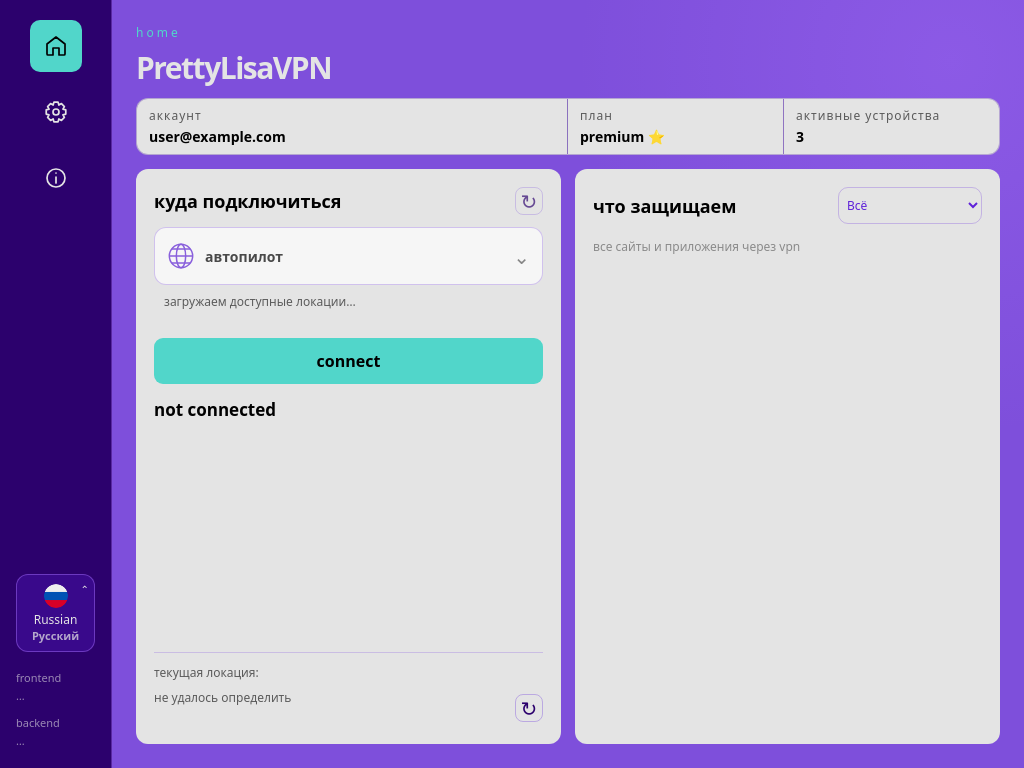
it: uses icon navigation in Home, Settings, About order and keeps Settings active for devices
Expected: the link named "главная" is empty, [30,20,82,72]
Expected: the 1st icon is shown, [44,34,68,58]
Click the link named "настройки": click(56, 112) [44,100,68,124]
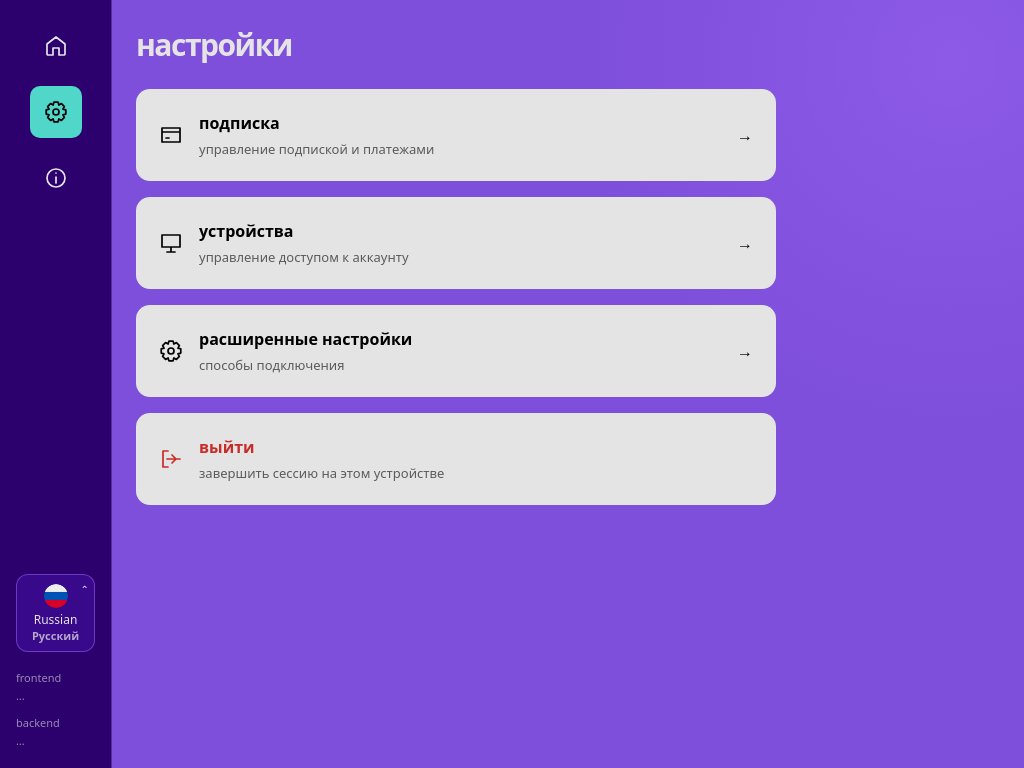
Click the link "устройства Управление доступом к аккаунту →": click(246, 231) [136,197,776,289]
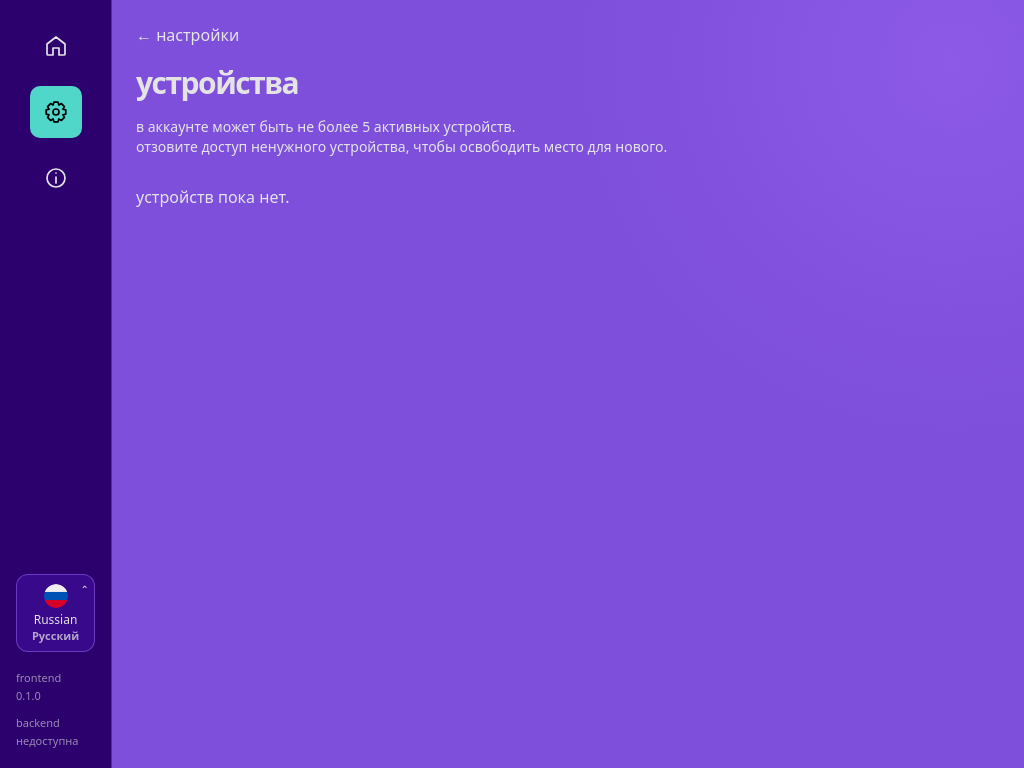
Now the heading "устройства" is shown, box [136,62,298,103]
Click the link "← настройки": click(188, 35) [136,24,239,46]
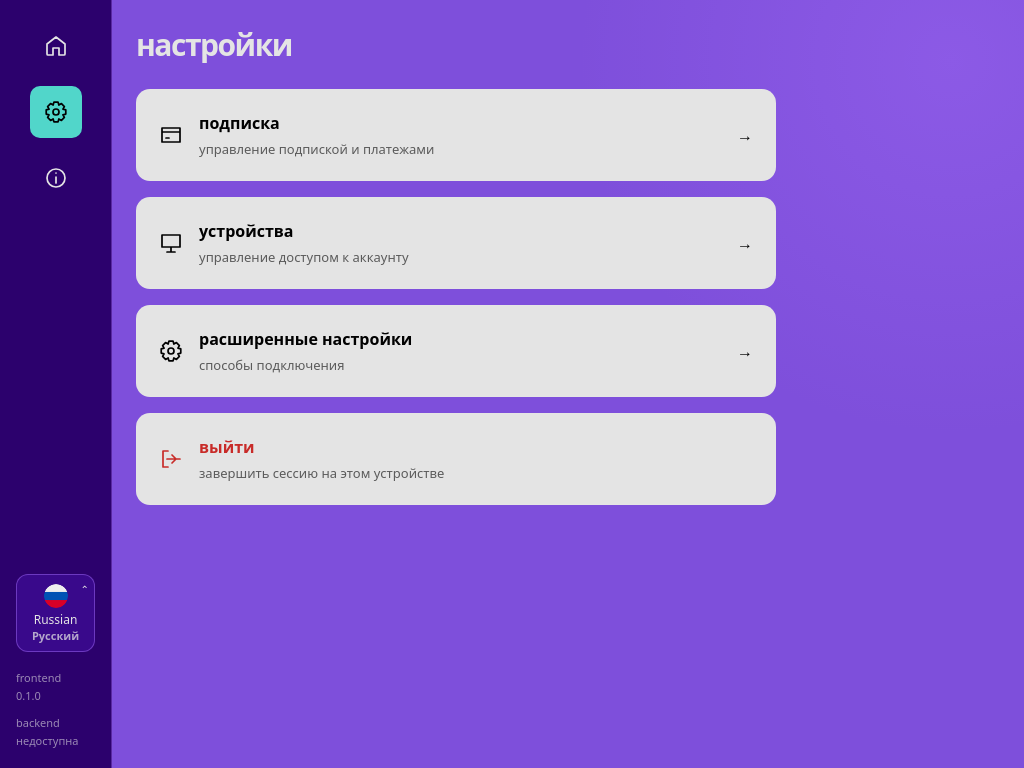
Now the heading "настройки" is shown, box [136,24,292,65]
